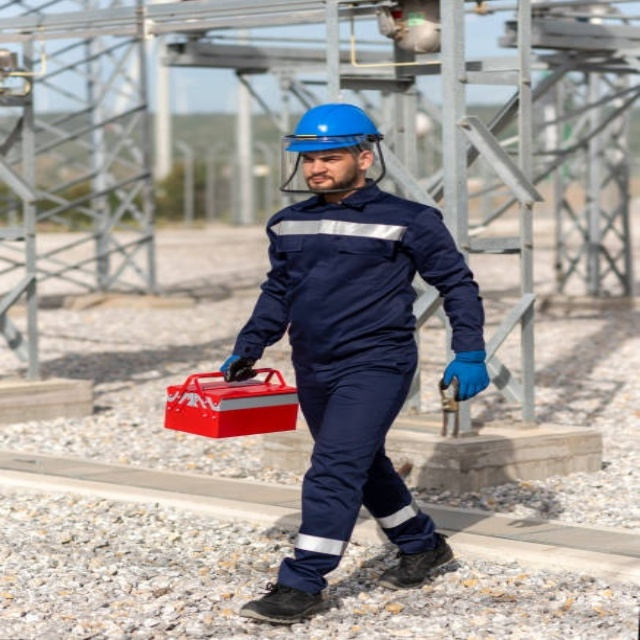Guantes: (440, 351, 489, 402), (221, 354, 248, 376)
Sin_gafas: (296, 151, 349, 169)
Sin_mascara: (300, 170, 343, 190)
